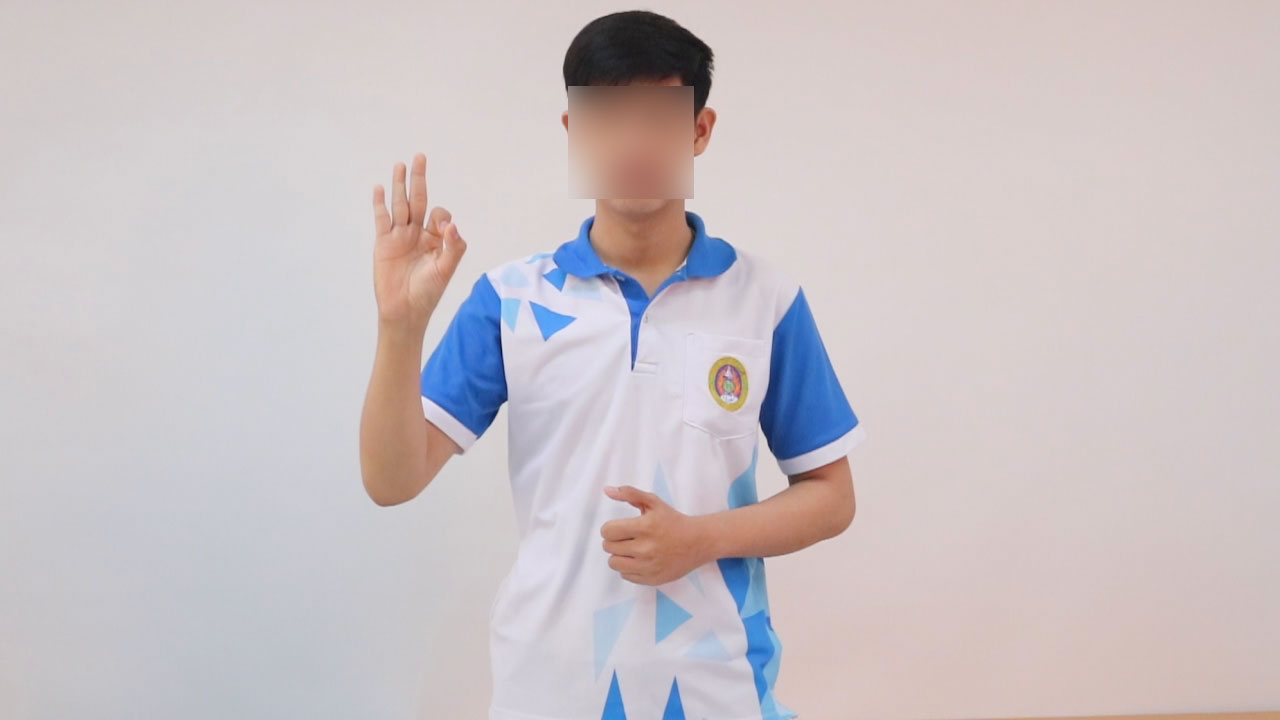for: (355, 140, 477, 343)
